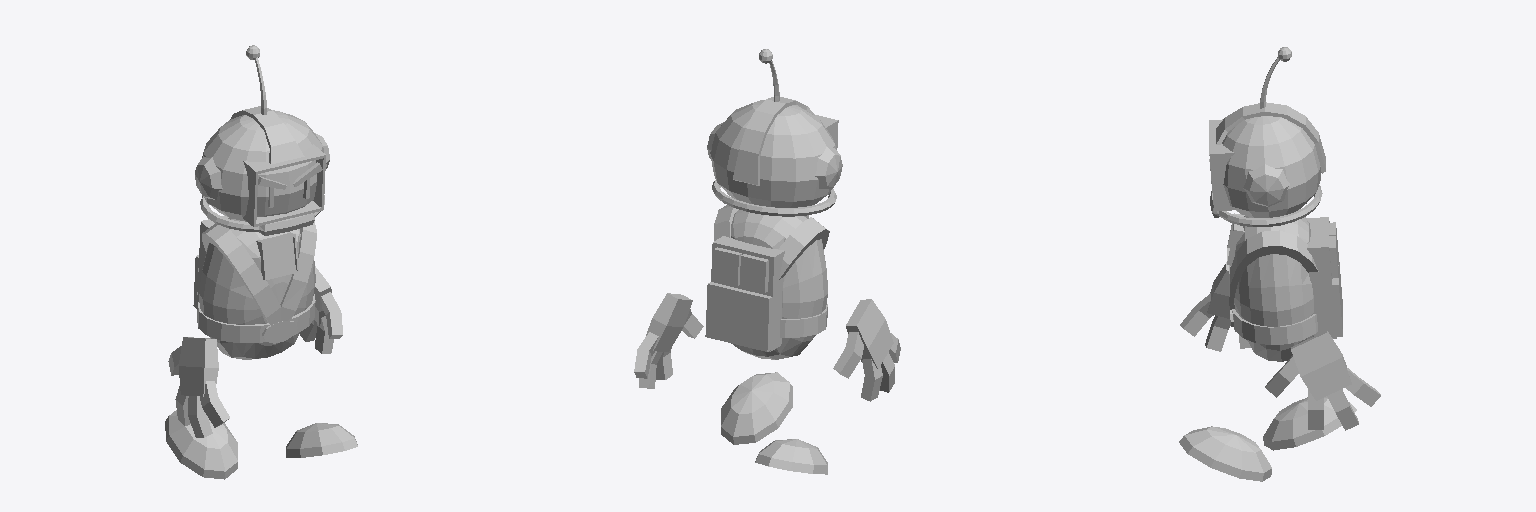
Rendered from bomberman_000009.obj.
3 views of the same model, side by side, from view 1: azimuth 30°, elevation 25°; view 2: azimuth 150°, elevation 25°; view 3: azimuth 270°, elevation 25° (orthographic).
Parts seen in each view (by area): view 1: BM_BODY.002_Mesh.009, BM_Head.002_Mesh.005, BM_Head.001_Mesh.004, BM_BODY.001_Mesh.008, R_Hand_Mesh.003, R_Foot_Mesh.001, L_Hand_Mesh.002, L_Foot_Mesh; view 2: BM_BODY.002_Mesh.009, BM_Head.002_Mesh.005, BM_BODY.001_Mesh.008, BM_Head.001_Mesh.004, R_Hand_Mesh.003, L_Foot_Mesh, L_Hand_Mesh.002, R_Foot_Mesh.001; view 3: BM_BODY.002_Mesh.009, BM_Head.002_Mesh.005, BM_BODY.001_Mesh.008, BM_Head.001_Mesh.004, L_Hand_Mesh.002, L_Foot_Mesh, R_Foot_Mesh.001, R_Hand_Mesh.003.
Part boxes in pixels (x1,y1,x2,y2): BM_BODY.002_Mesh.009: (193, 215, 316, 343); BM_Head.002_Mesh.005: (202, 110, 326, 235); BM_Head.001_Mesh.004: (195, 106, 329, 231); BM_BODY.001_Mesh.008: (199, 218, 315, 359); R_Hand_Mesh.003: (168, 337, 229, 437); R_Foot_Mesh.001: (165, 410, 237, 479); L_Hand_Mesh.002: (300, 266, 342, 353); L_Foot_Mesh: (286, 423, 357, 457); BM_BODY.002_Mesh.009: (705, 205, 829, 351); BM_Head.002_Mesh.005: (710, 100, 835, 207); BM_BODY.001_Mesh.008: (731, 210, 827, 359); BM_Head.001_Mesh.004: (707, 97, 842, 216); R_Hand_Mesh.003: (833, 299, 900, 401); L_Foot_Mesh: (721, 372, 792, 444); L_Hand_Mesh.002: (634, 293, 703, 388); R_Foot_Mesh.001: (755, 439, 827, 474); BM_BODY.002_Mesh.009: (1227, 209, 1342, 344); BM_Head.002_Mesh.005: (1210, 116, 1321, 217); BM_BODY.001_Mesh.008: (1234, 216, 1313, 361); BM_Head.001_Mesh.004: (1209, 102, 1325, 226); L_Hand_Mesh.002: (1265, 331, 1380, 430); L_Foot_Mesh: (1179, 426, 1271, 481); R_Foot_Mesh.001: (1263, 396, 1356, 450); R_Hand_Mesh.003: (1180, 262, 1250, 351).
Size of the model in its own units: 3.85 by 8.09 by 3.57.